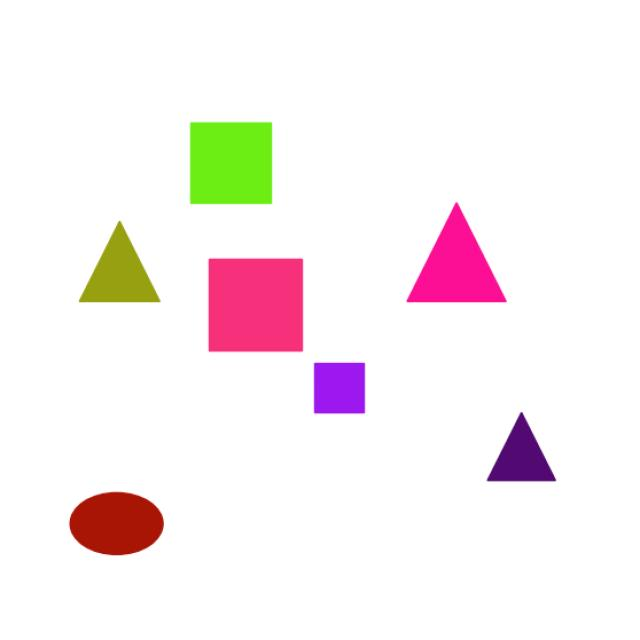Oval: (60, 472, 178, 564)
Triangle: (392, 193, 528, 319), (470, 402, 581, 508), (66, 213, 176, 319)
square: (196, 246, 310, 362), (179, 112, 288, 216), (304, 354, 374, 426)
